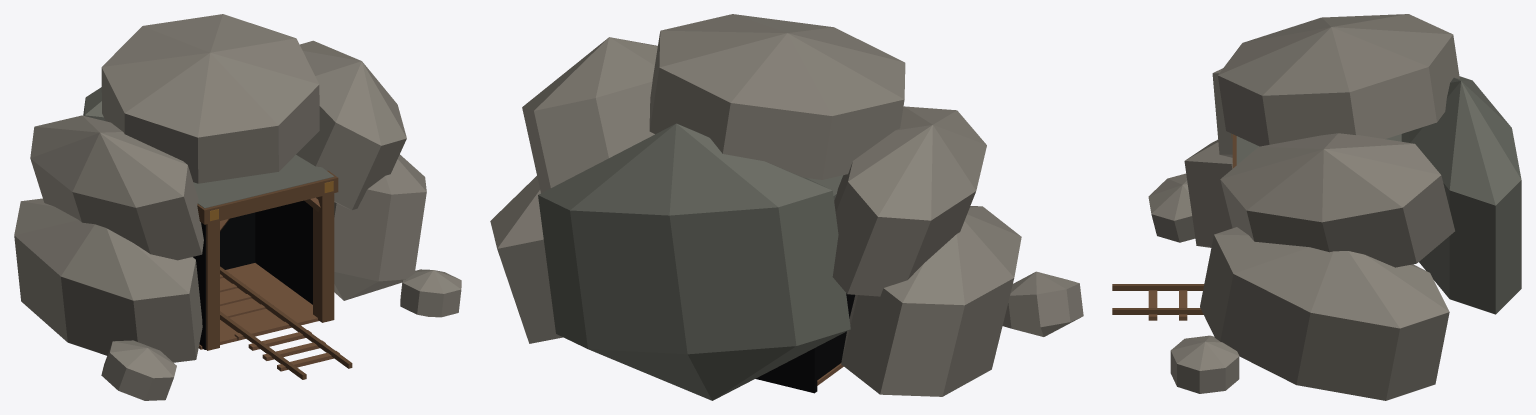
Rendered from mine-mouth.glb.
The picture shows the model from 3 angles, left to right: view 1: azimuth 30°, elevation 25°; view 2: azimuth 150°, elevation 25°; view 3: azimuth 270°, elevation 25°; orthographic projection. The views are drawn at different scales.
Parts seen in each view (by area): view 1: mine_mouth; view 2: mine_mouth; view 3: mine_mouth.
Boxes of the visible parts, x1,y1,x2,y2 form: mine_mouth: (14, 14, 461, 400); mine_mouth: (490, 14, 1083, 400); mine_mouth: (1112, 14, 1521, 400).
Bounding box in the file's own units: 3.31 × 2.26 × 2.89.
